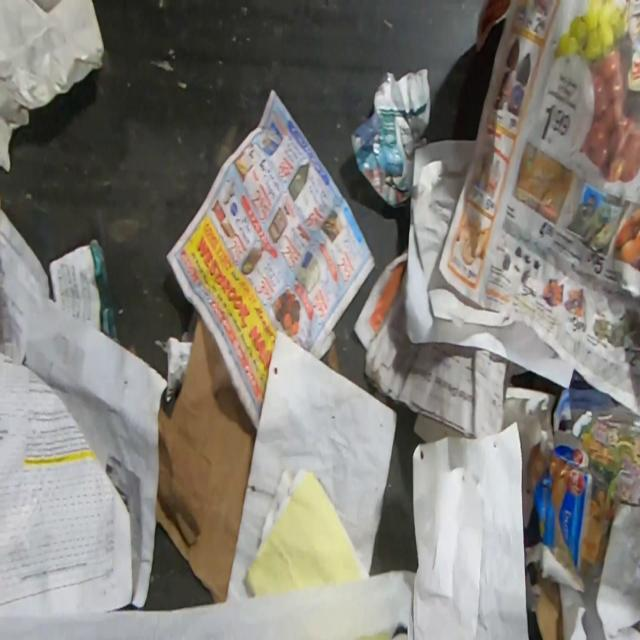cardboard: (154, 314, 258, 605), (524, 428, 594, 640), (320, 340, 340, 374)
